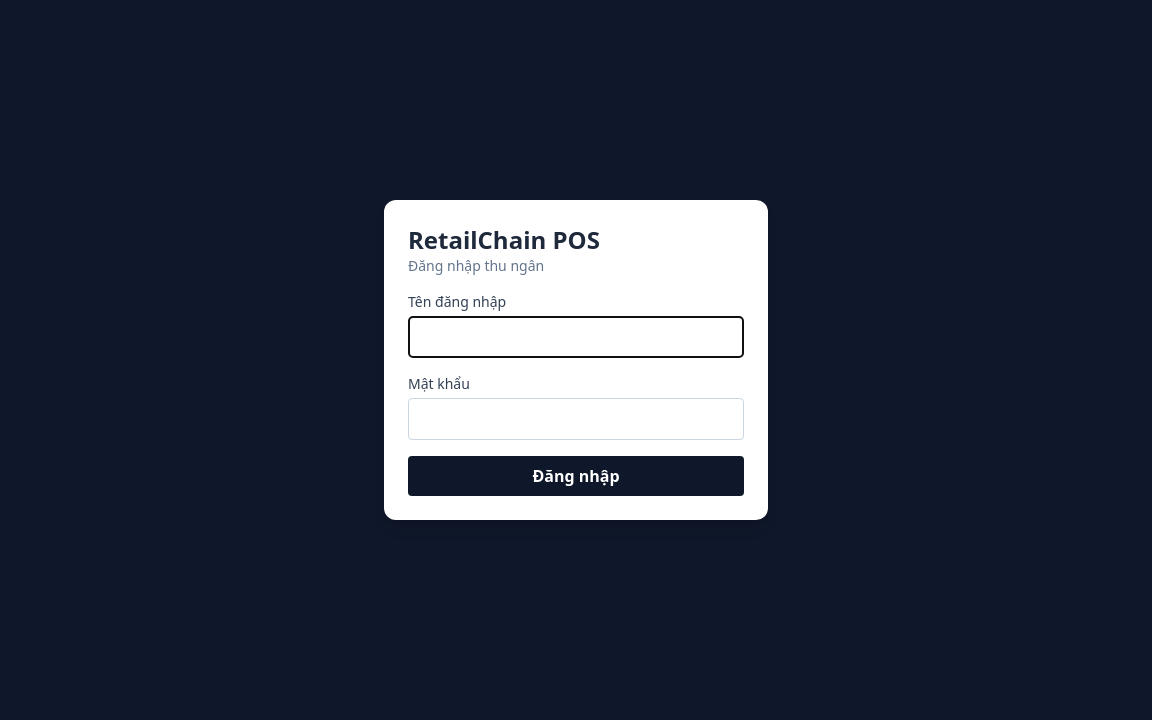
POS screens › REQ-AUTH-01: cashier login opens the selling screen
Type "cashier01" into the field labelled "Tên đăng nhập" at {"x": 576, "y": 337}, box 408,316 -> 744,358
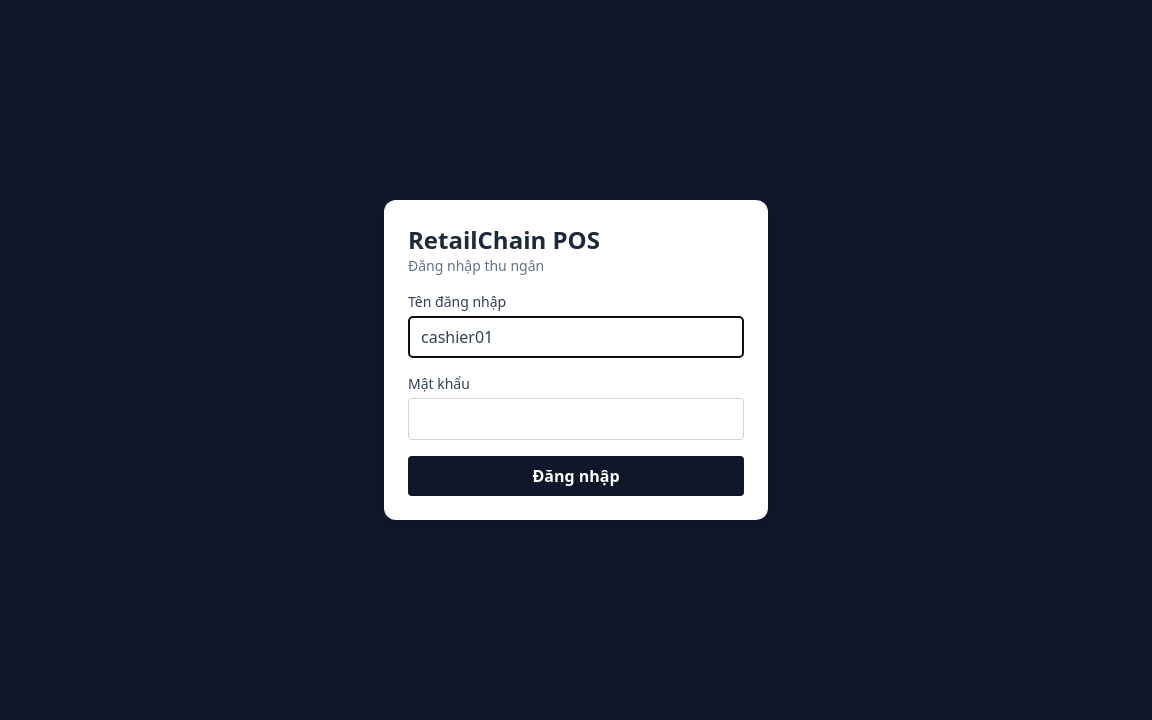
Type "Cashier@2026" into the password field labelled "Mật khẩu" at {"x": 576, "y": 419}, box 408,398 -> 744,440
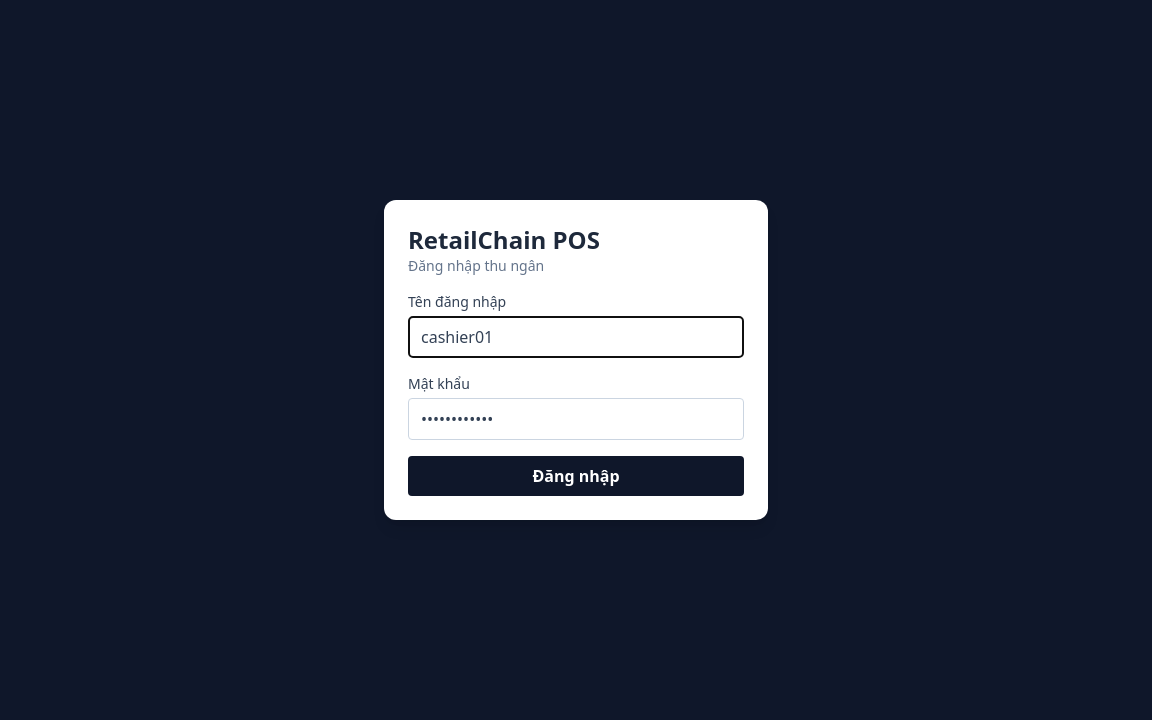
Click the button "Đăng nhập" at {"x": 576, "y": 476}, box 408,456 -> 744,496
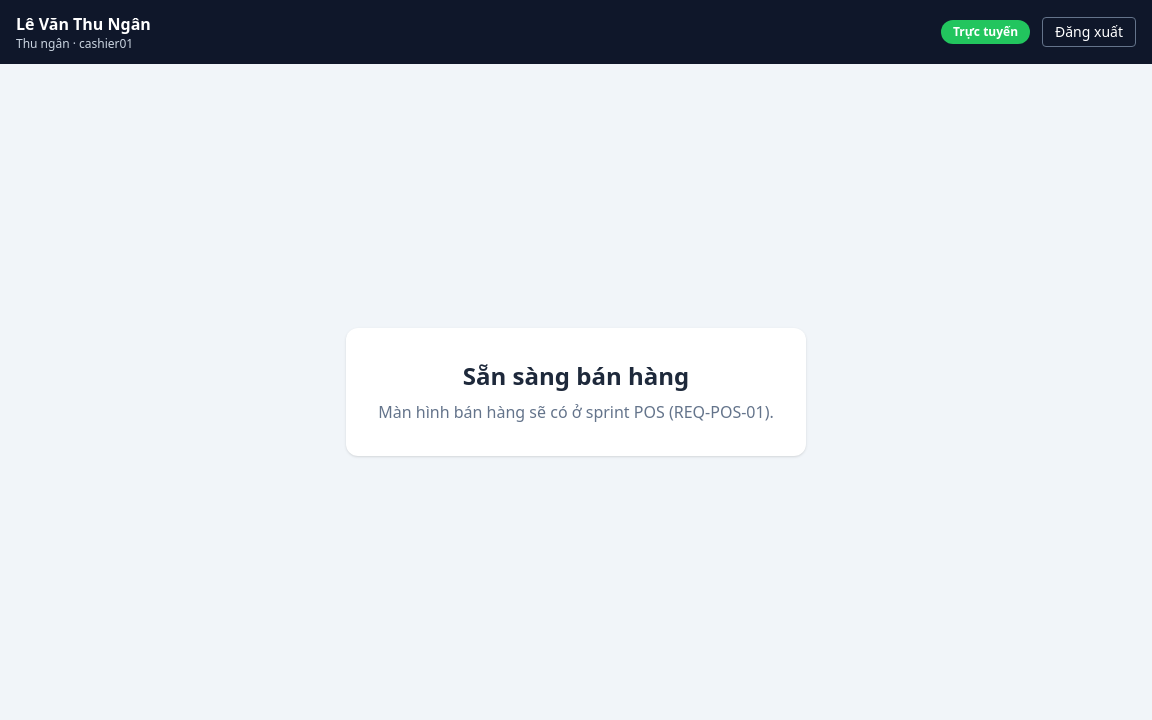
Result: the heading "Sẵn sàng bán hàng" is shown at 463,359 -> 689,392
